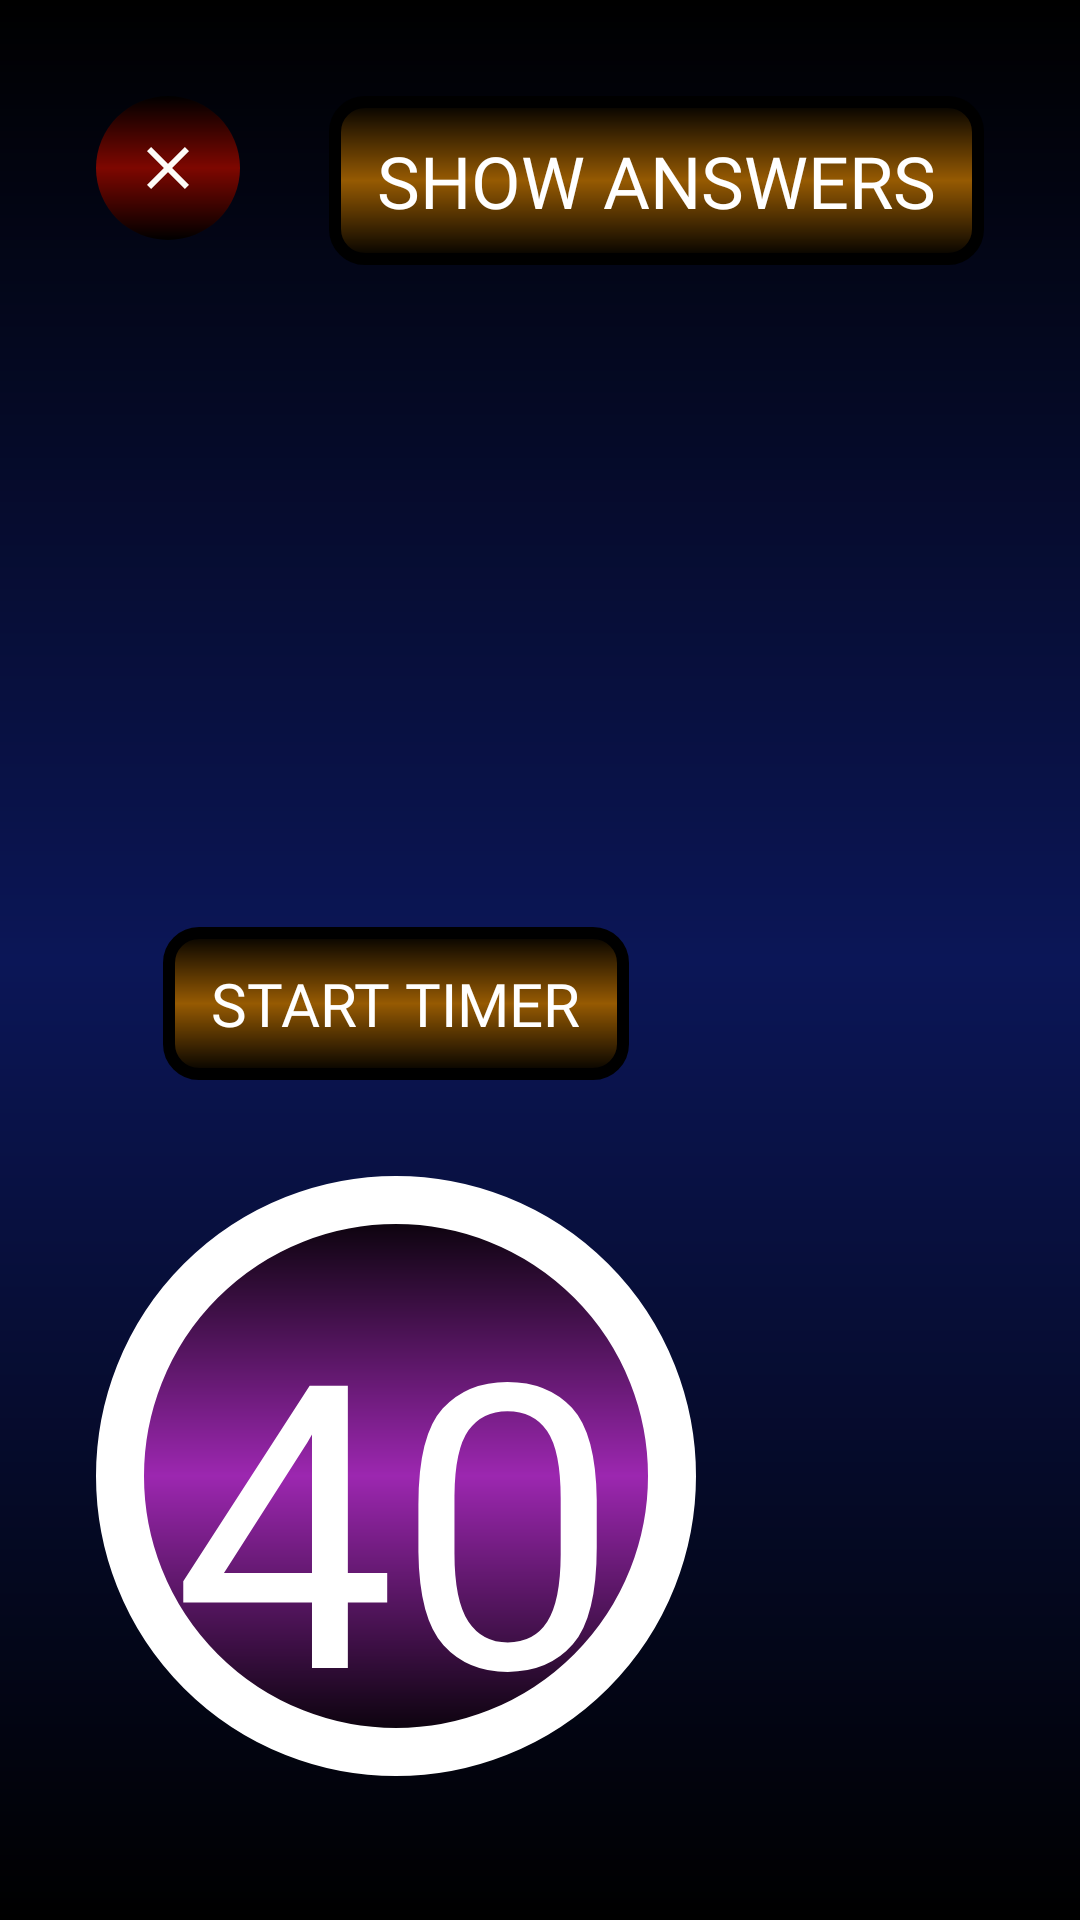

Where to tap for icons on this 1080*1920 app screen, as (x,y):
close: (168,168)
